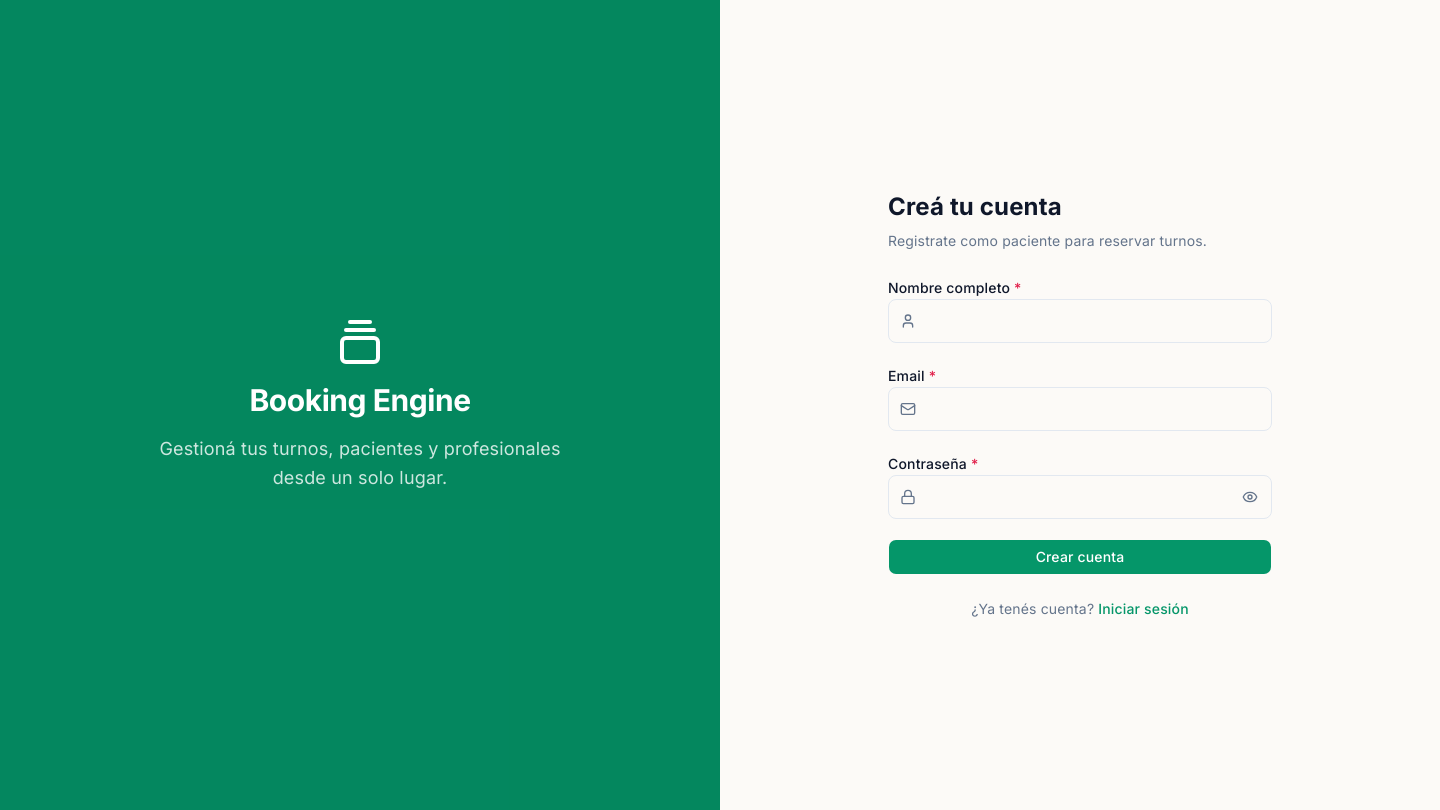
Test: RegisterForm — per-field error wiring on short-password submit › marks the password input aria-invalid=true with aria-describedby pointing at #password-error
In the field labelled "Nombre completo*": (1080,321) x1=888 y1=299 x2=1272 y2=343, type "Juan Pérez"
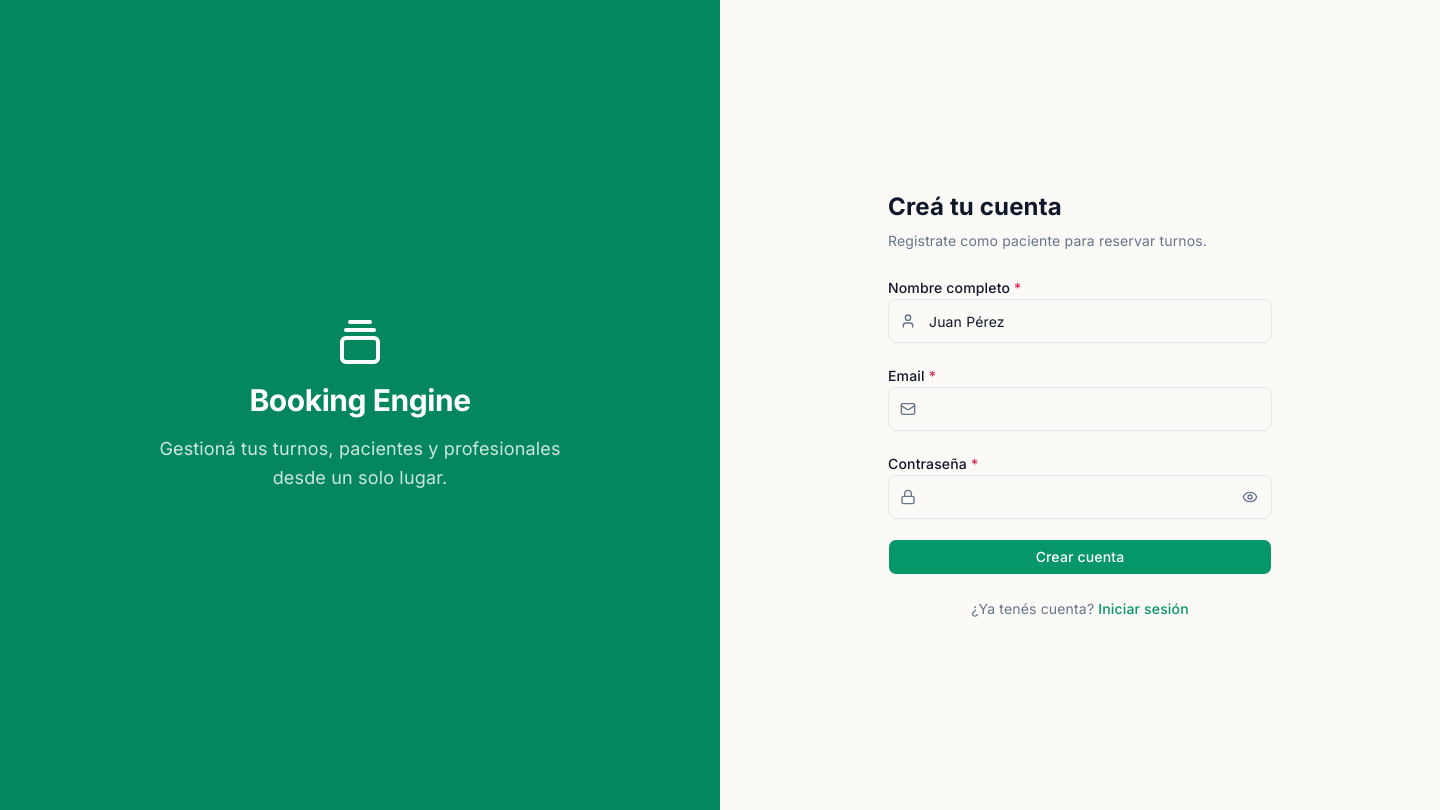
In the field labelled "Email*": (1080,409) x1=888 y1=387 x2=1272 y2=431, type "juan@example.com"
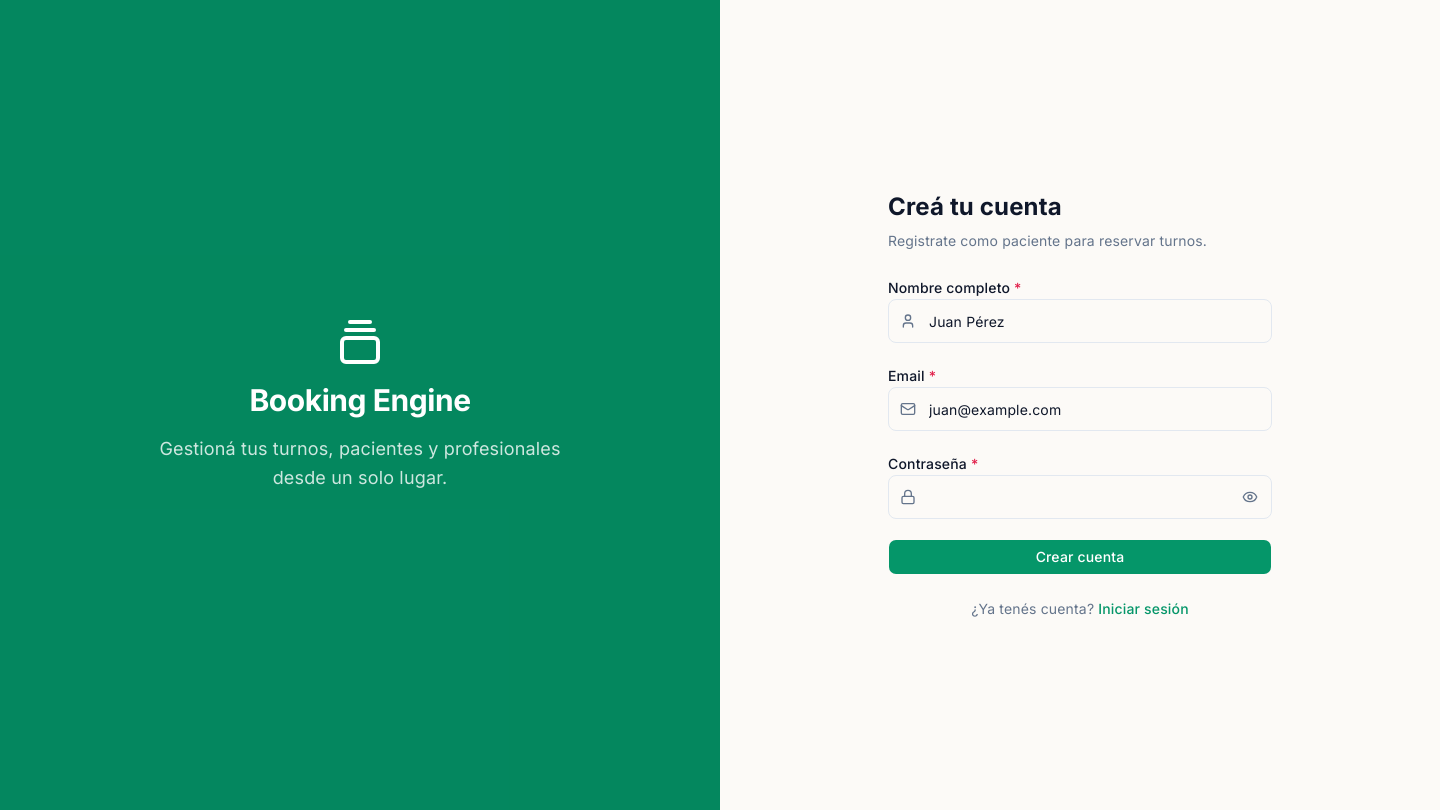
In the password field labelled "Contraseña*": (1080,497) x1=888 y1=475 x2=1272 y2=519, type "short"
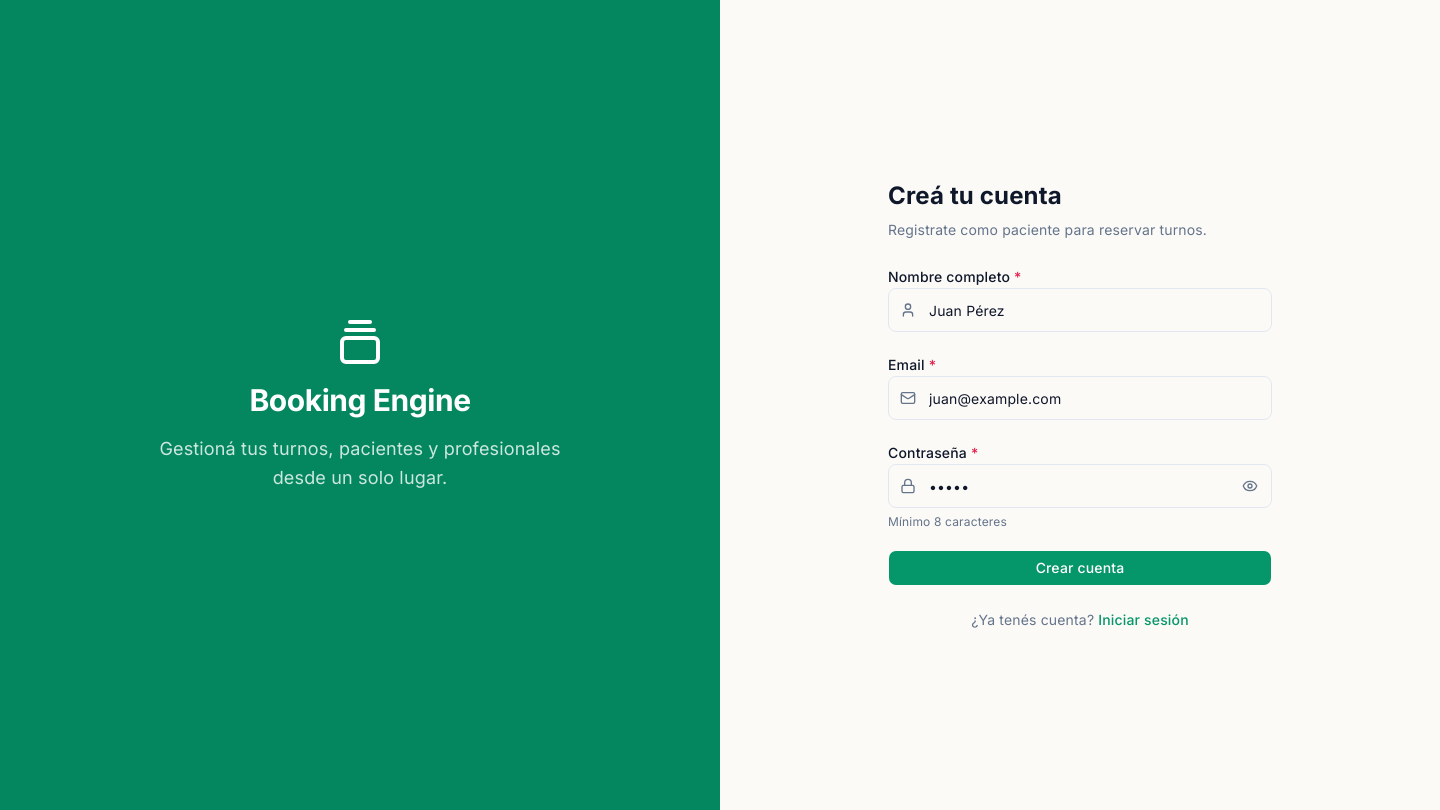
Click the button "Crear cuenta": (1080,568) x1=888 y1=550 x2=1272 y2=586
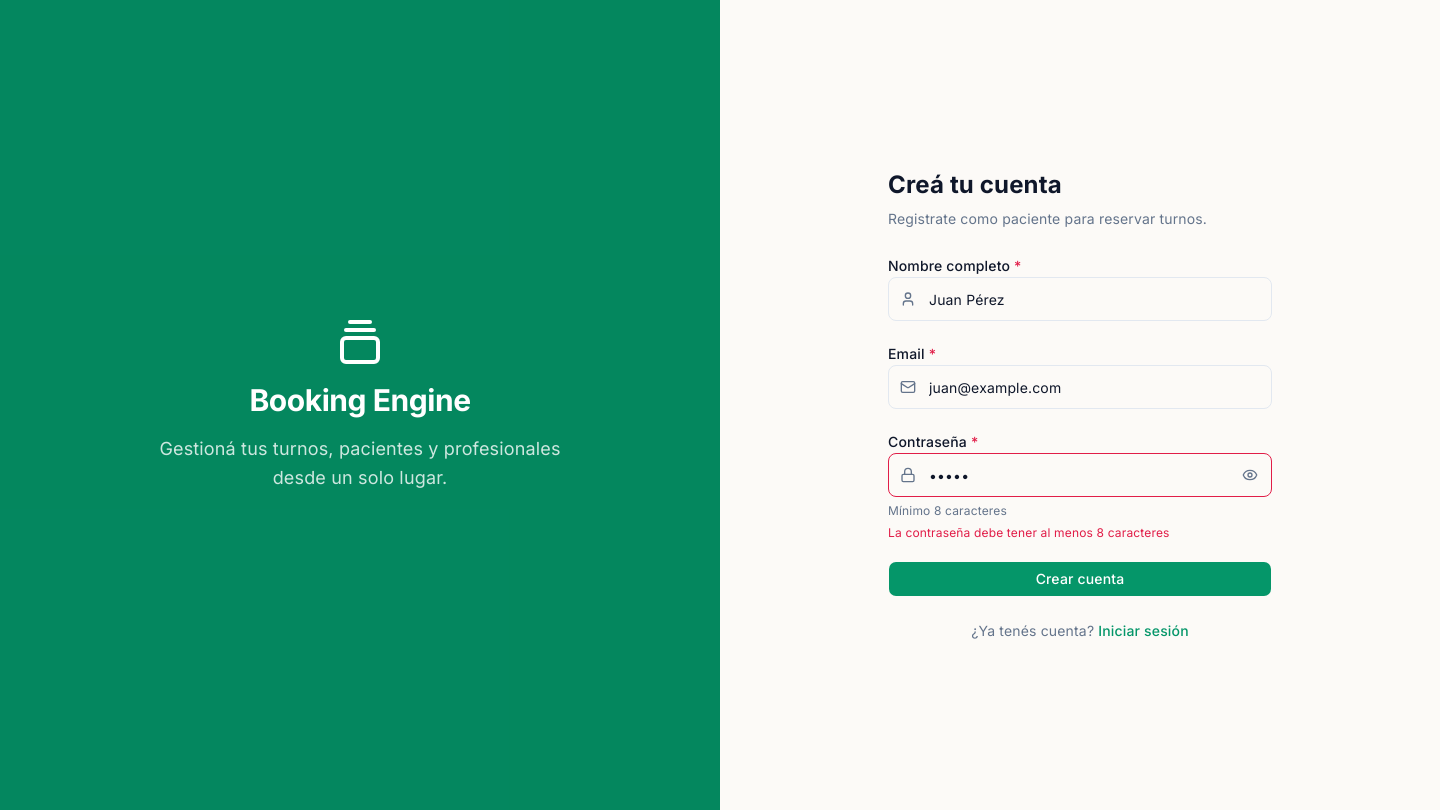
Expected: the message "La contraseña debe tener al menos 8 caracteres" is shown, x1=888 y1=525 x2=1170 y2=540
